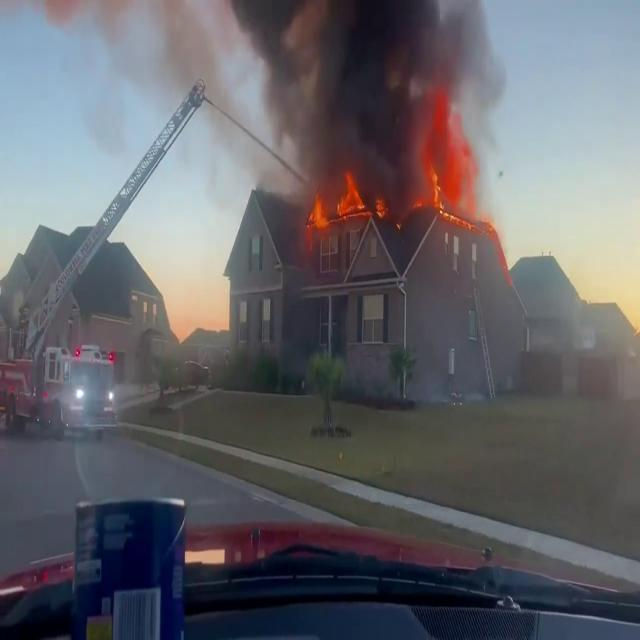Fire: (413, 100, 489, 226), (308, 168, 390, 230)
Smoke: (222, 1, 500, 199)
